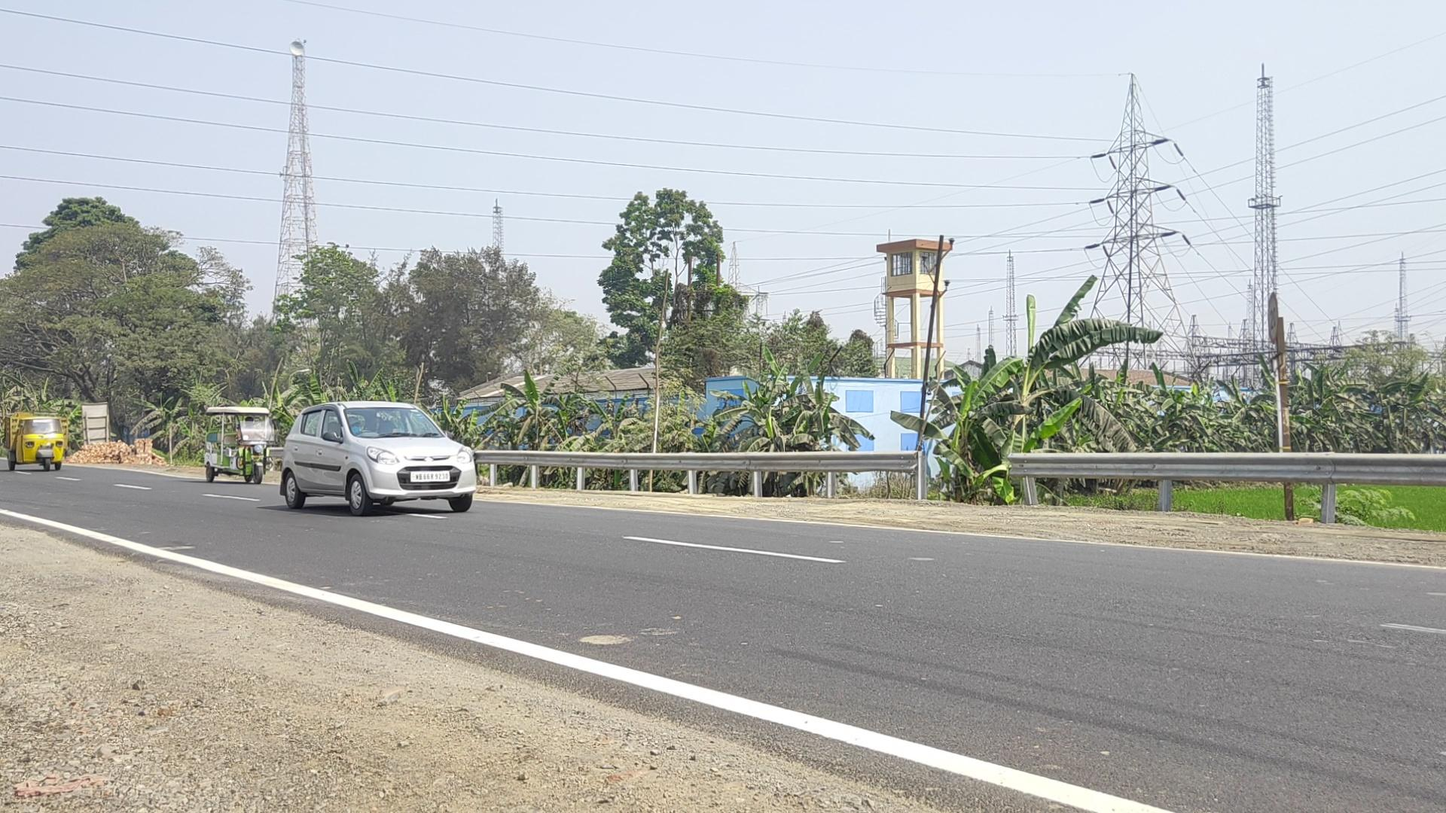Auto: (204, 406, 275, 485)
car: (279, 400, 477, 516)
van: (5, 412, 69, 471)
